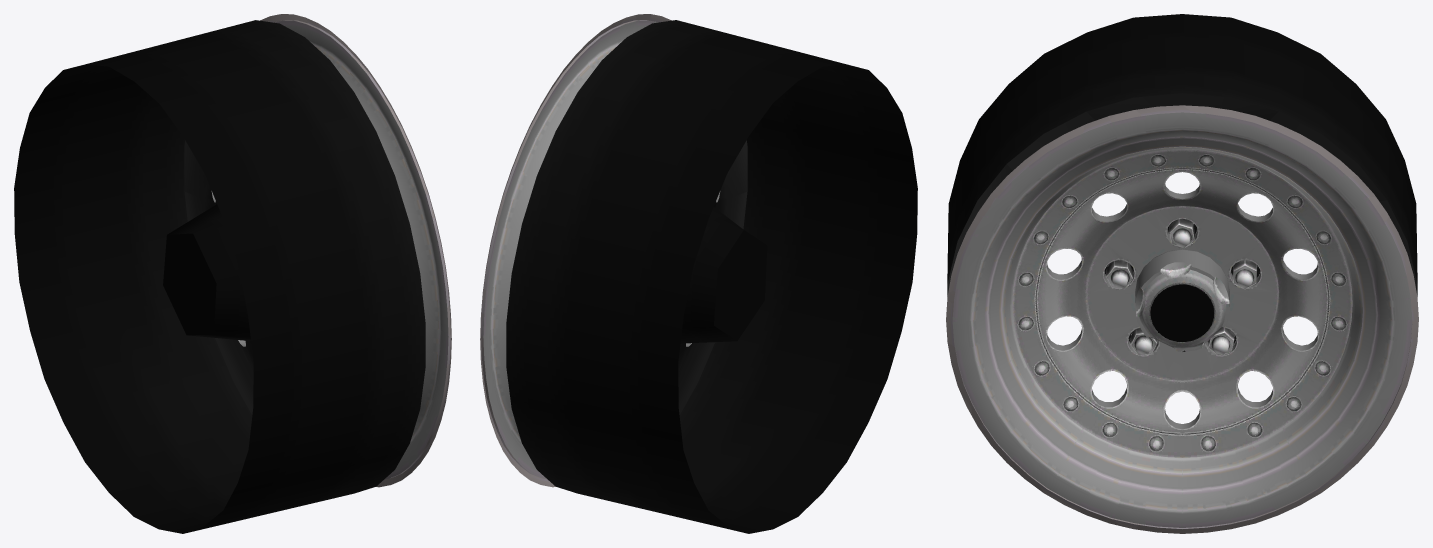
Rendered from wheel7.fbx.
3 views of the same model, side by side, from view 1: azimuth 30°, elevation 25°; view 2: azimuth 150°, elevation 25°; view 3: azimuth 270°, elevation 25° (orthographic). The views are drawn at different scales.
Parts seen in each view (by area): view 1: ame_outlaw_ii_wheel_wheel_inner_rim_, wheel_rim, ame_outlaw_ii_wheel_wheel_rim_; view 2: ame_outlaw_ii_wheel_wheel_inner_rim_, wheel_rim, ame_outlaw_ii_wheel_wheel_rim_; view 3: ame_outlaw_ii_wheel_wheel_rim_, wheel_rim, ame_outlaw_ii_wheel_wheel_inner_rim_.
Boxes of the visible parts, x1,y1,x2,y2 form: ame_outlaw_ii_wheel_wheel_inner_rim_: (14,20,425,533); wheel_rim: (270,14,451,487); ame_outlaw_ii_wheel_wheel_rim_: (211,14,451,486); ame_outlaw_ii_wheel_wheel_inner_rim_: (506,20,917,533); wheel_rim: (480,14,657,487); ame_outlaw_ii_wheel_wheel_rim_: (480,14,720,487); ame_outlaw_ii_wheel_wheel_rim_: (946,105,1418,529); wheel_rim: (946,105,1418,533); ame_outlaw_ii_wheel_wheel_inner_rim_: (947,14,1417,296).
Size of the model in its own units: 0.2277 by 0.4802 by 0.4802.
1 material, 1 textured.
